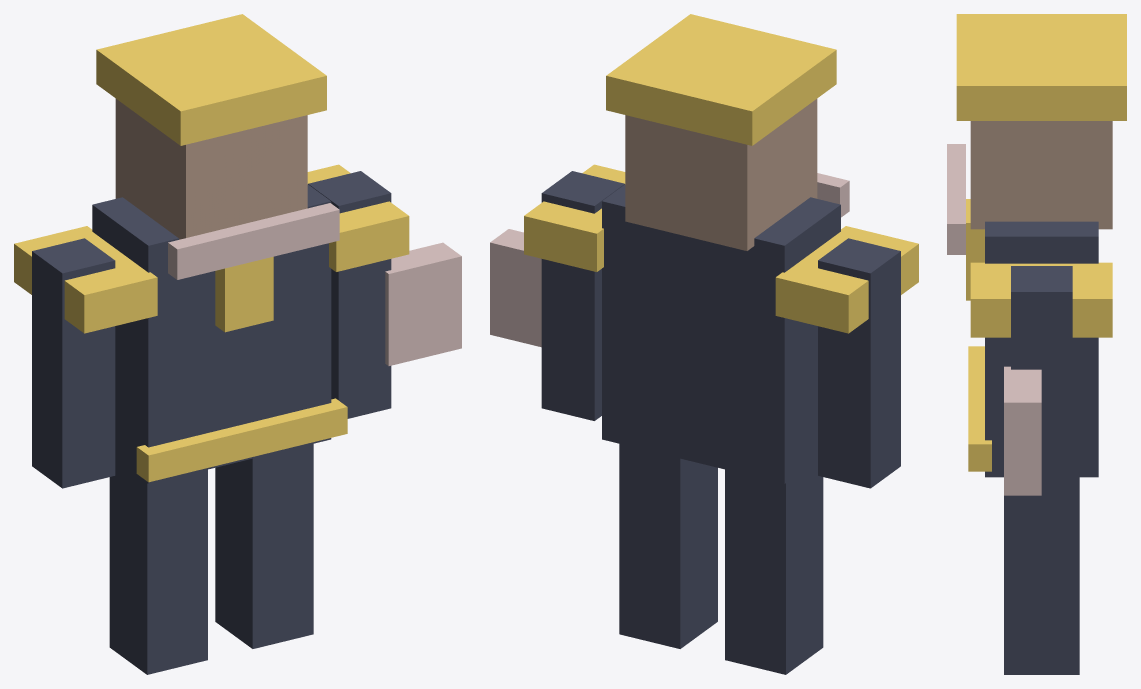
The model's file is 13_lio_voxmere_mechanist_under_emergency.glb.
3 renders of one model, left to right at view 1: azimuth 30°, elevation 25°; view 2: azimuth 150°, elevation 25°; view 3: azimuth 270°, elevation 25°, orthographic.
Parts seen in each view (by area): view 1: Lio Voxmere, Mechanist under Emergency; view 2: Lio Voxmere, Mechanist under Emergency; view 3: Lio Voxmere, Mechanist under Emergency.
Boxes of the visible parts, left/top/right/bottom form: Lio Voxmere, Mechanist under Emergency: left=14, top=14, right=461, bottom=674; Lio Voxmere, Mechanist under Emergency: left=490, top=14, right=918, bottom=674; Lio Voxmere, Mechanist under Emergency: left=947, top=14, right=1126, bottom=674.
Size of the model in its own units: 1 by 1.4 by 0.3898.
